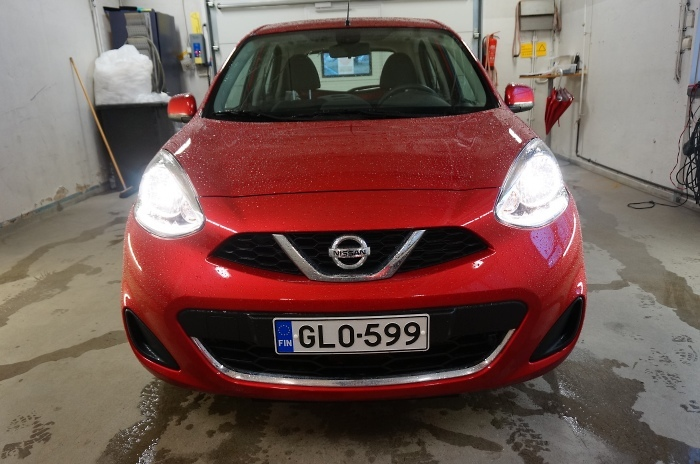license: (274, 309, 428, 355)
